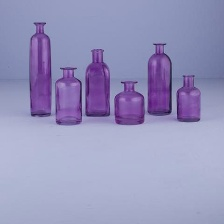bottle: (24, 19, 53, 119), (146, 39, 174, 120), (82, 47, 113, 118), (53, 64, 84, 128), (112, 78, 145, 128), (175, 73, 207, 124)
